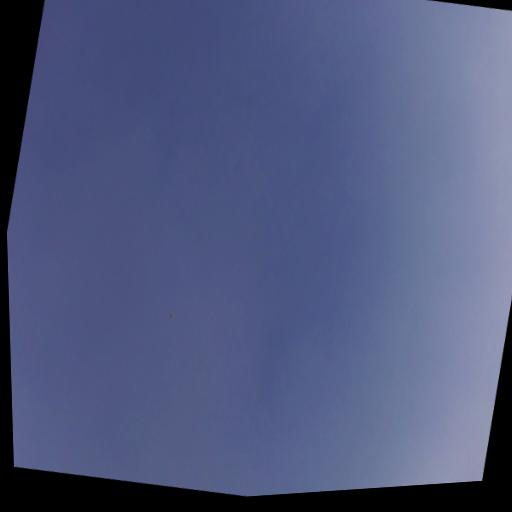drones: (168, 310, 177, 321)
